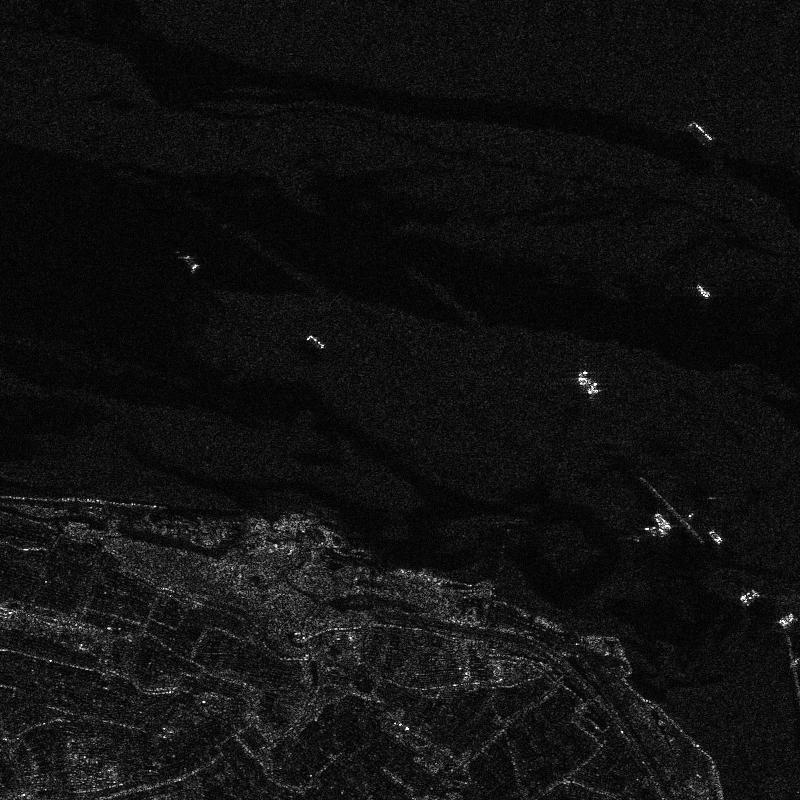ship: (687, 122, 712, 145), (577, 370, 598, 394), (654, 512, 671, 531), (740, 589, 759, 605), (307, 335, 324, 349), (708, 529, 722, 544), (184, 256, 199, 270), (779, 613, 795, 626), (695, 284, 710, 297)
